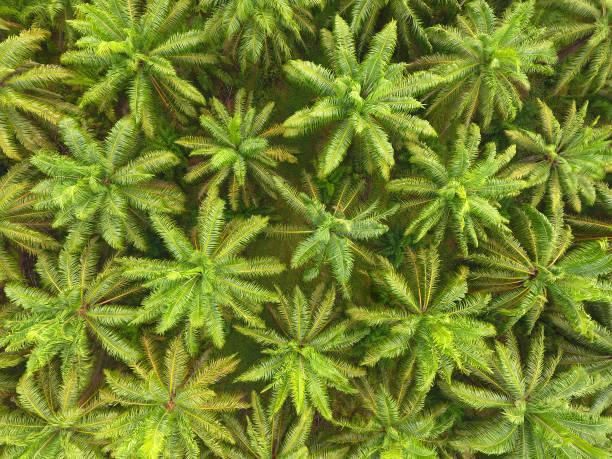coconut_tree: (304, 6, 438, 175), (440, 330, 609, 458), (140, 207, 285, 346), (93, 324, 242, 458), (45, 114, 183, 248), (8, 257, 136, 395), (68, 2, 209, 115), (368, 253, 492, 380), (420, 4, 550, 121), (403, 139, 524, 244), (240, 285, 341, 407), (284, 175, 397, 281), (502, 105, 611, 210), (188, 103, 290, 203)
